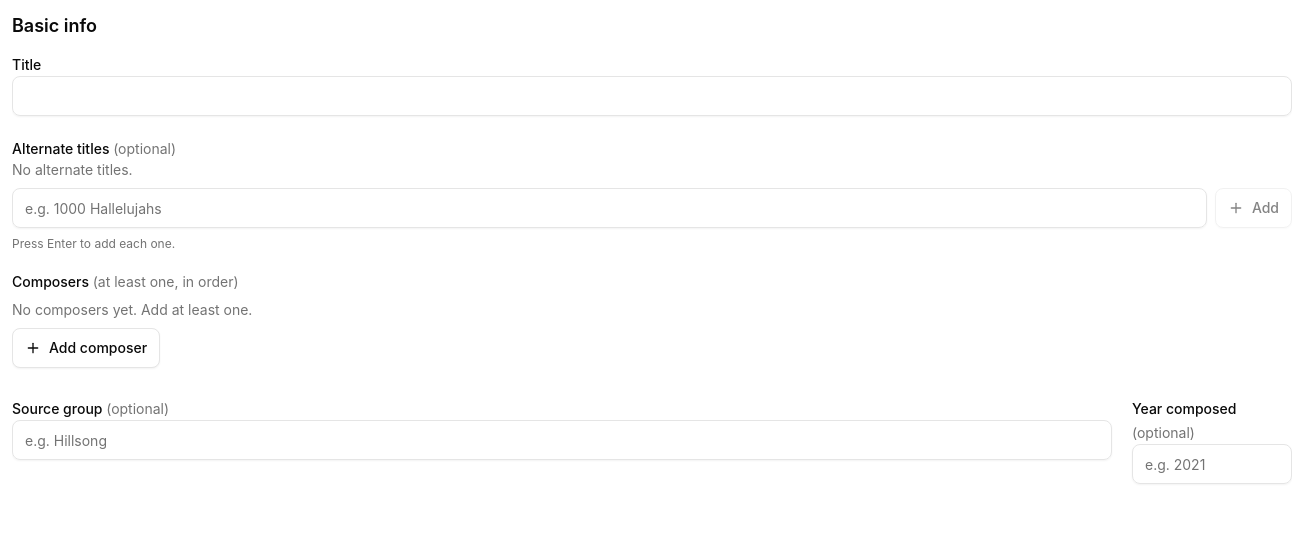
Test: BasicInfoSection › flags an out-of-range year only after blur
Type "99" into the field labelled "Year composed (optional)" at [1212, 464], box [1132,444,1292,484]
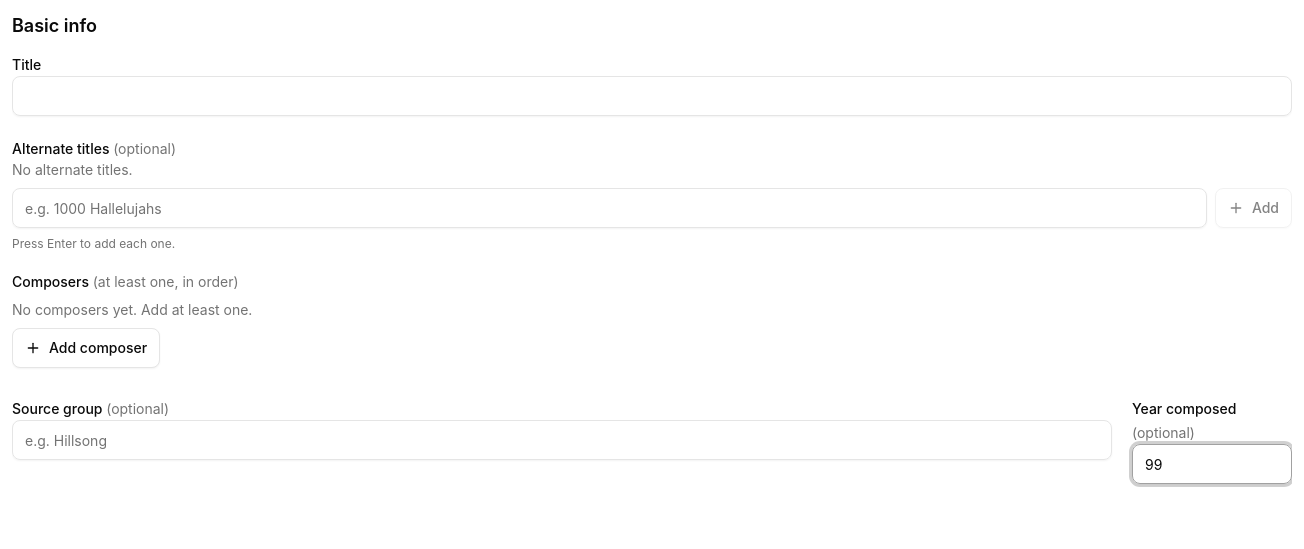
Expected: the text "Year must be between" is not shown
Press Tab
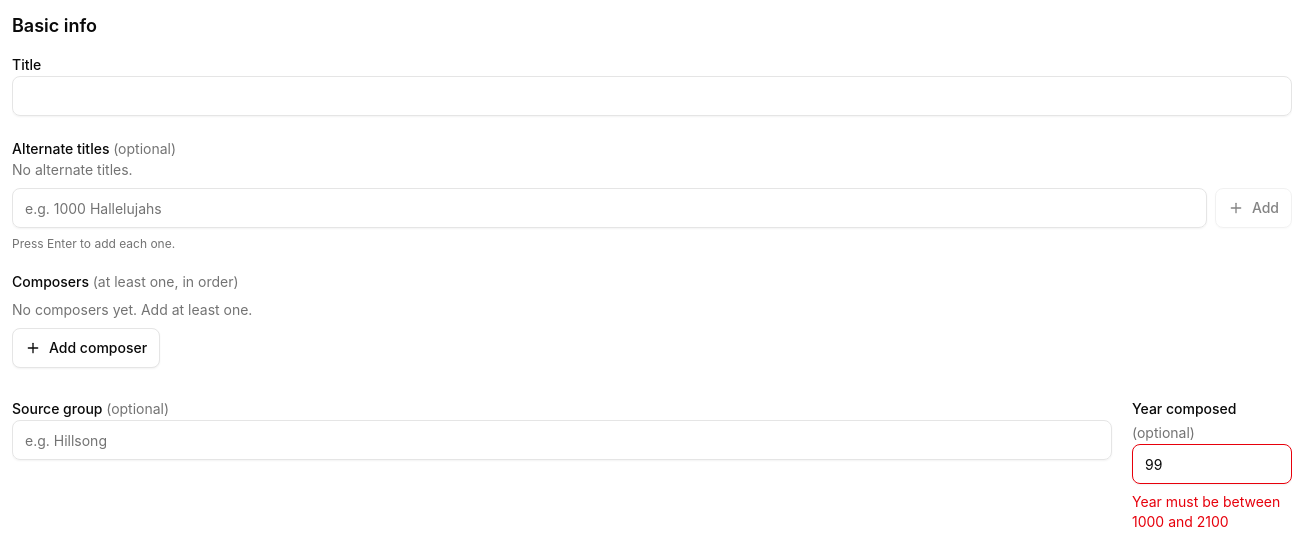
Expected: the list item "Year must be between 1000 and 2100" is shown, [1132,492,1292,532]
